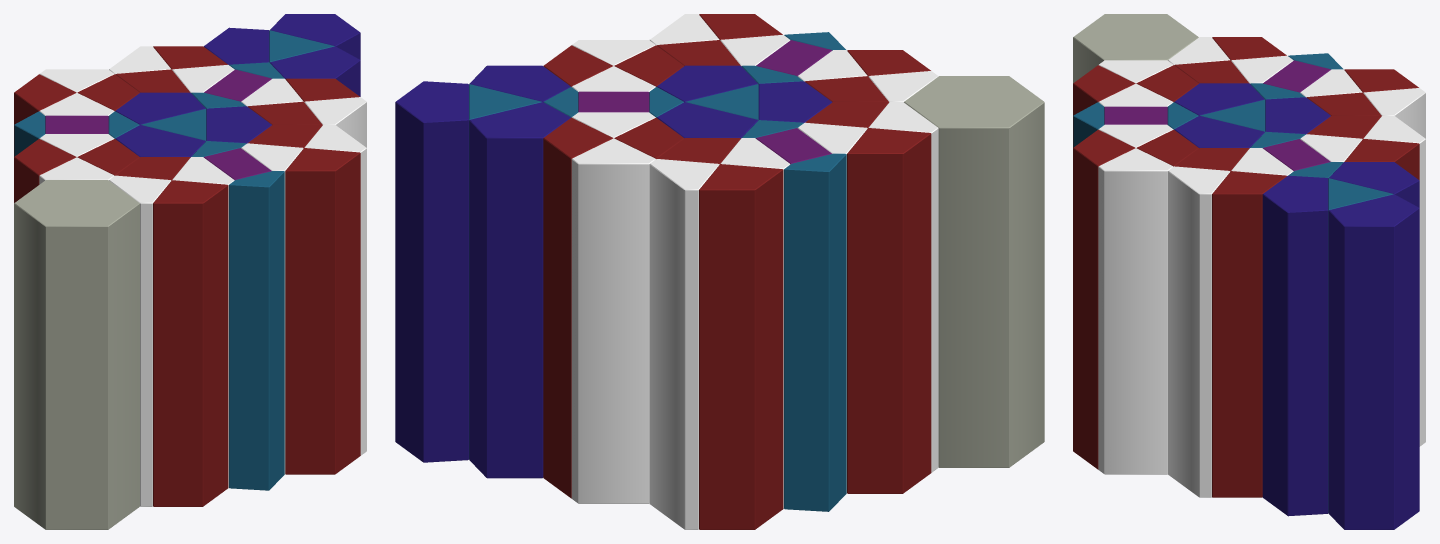
Rendered from Paves_A02.FBX.
3 renders of one model, left to right at view 1: azimuth 30°, elevation 25°; view 2: azimuth 150°, elevation 25°; view 3: azimuth 270°, elevation 25°, orthographic. The views are drawn at different scales.
Visible parts, largest first — view 1: Line049, Object095, Object091, Line054, Object094, Object097, Line030, Line032, Line042, Line031, Line044, Line043 (+30 smaller); view 2: Line049, Object039, Object035, Object046, Line031, Line032, Line010, Object038, Object044, Object041, Line030, Line044 (+25 smaller); view 3: Line032, Object097, Line030, Object048, Object049, Object095, Line049, Object046, Line031, Line043, Line044, Line042 (+30 smaller).
Part boxes in pixels (box(x1,y1,x2,y2)): Line049: box(14, 180, 139, 529); Object095: box(285, 148, 360, 474); Object091: box(153, 180, 228, 506); Line054: box(229, 171, 284, 490); Object094: box(109, 175, 171, 506); Object097: box(304, 124, 366, 455); Line030: box(270, 46, 360, 96); Line032: box(269, 14, 360, 59); Line042: box(115, 92, 205, 124); Line031: box(203, 27, 269, 64); Line044: box(206, 106, 271, 143); Line043: box(115, 125, 205, 157); Line049: box(904, 76, 1044, 467); Object039: box(847, 128, 931, 493); Object035: box(699, 164, 783, 529); Object046: box(571, 138, 655, 503); Line031: box(469, 102, 570, 478); Line032: box(395, 81, 468, 462); Line010: box(784, 153, 846, 511); Object038: box(649, 159, 719, 529); Object044: box(543, 117, 613, 498); Object041: box(868, 102, 938, 472); Line030: box(469, 65, 570, 101); Line044: box(656, 65, 757, 102); Line032: box(1328, 194, 1419, 529); Object097: box(1098, 148, 1173, 474); Line030: box(1262, 175, 1328, 516); Object048: box(1212, 171, 1286, 497); Object049: box(1168, 166, 1230, 497); Object095: box(1073, 129, 1135, 469); Line049: box(1073, 14, 1198, 83); Object046: box(1363, 115, 1425, 446); Line031: box(1329, 162, 1419, 207); Line043: box(1174, 83, 1264, 115); Line044: box(1174, 116, 1264, 148); Line042: box(1265, 97, 1330, 134).
Bounding box in the file's own units: 151 × 106 × 101.
